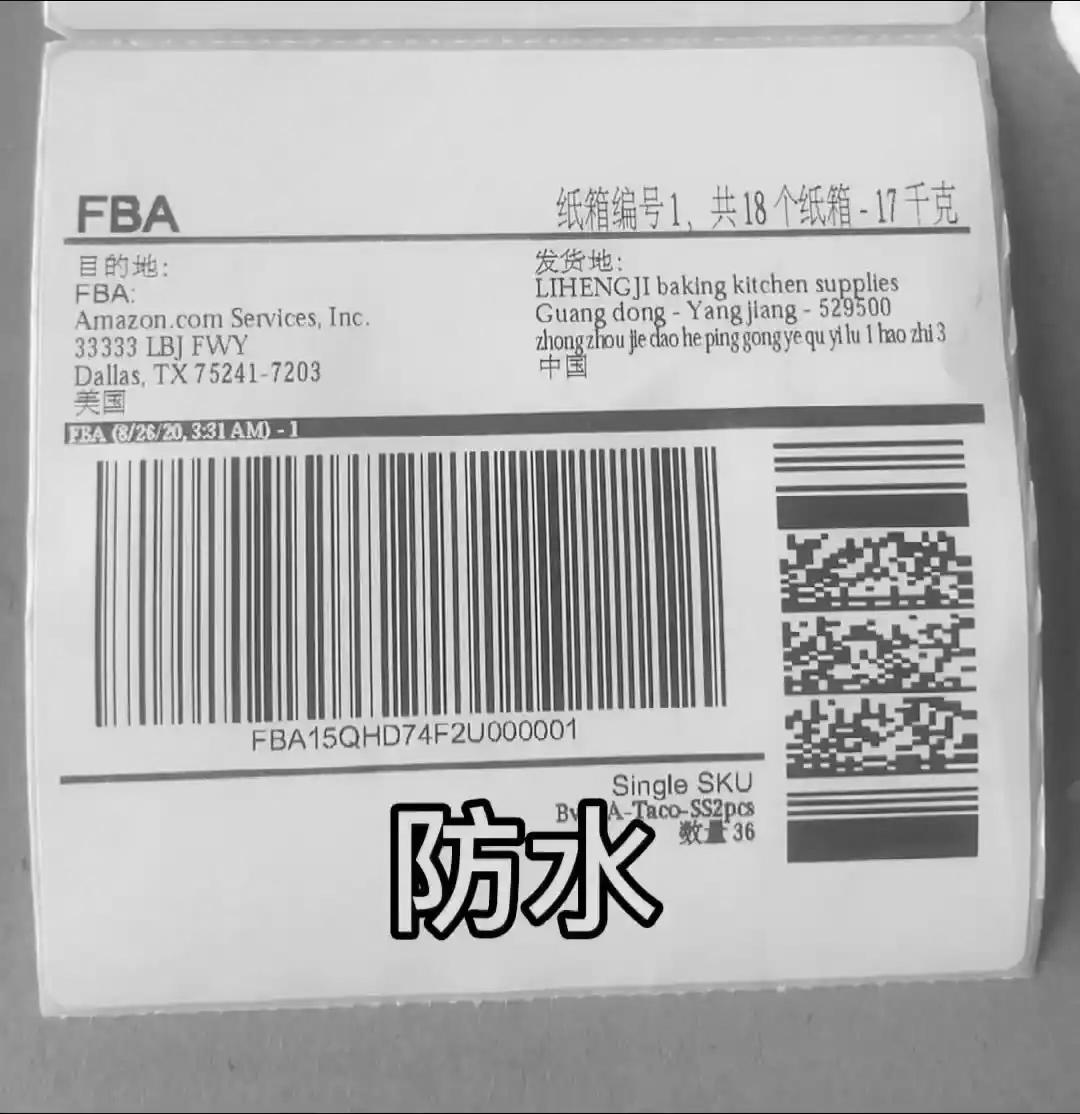Barcode: (62, 437, 720, 721), (743, 415, 1032, 915)
